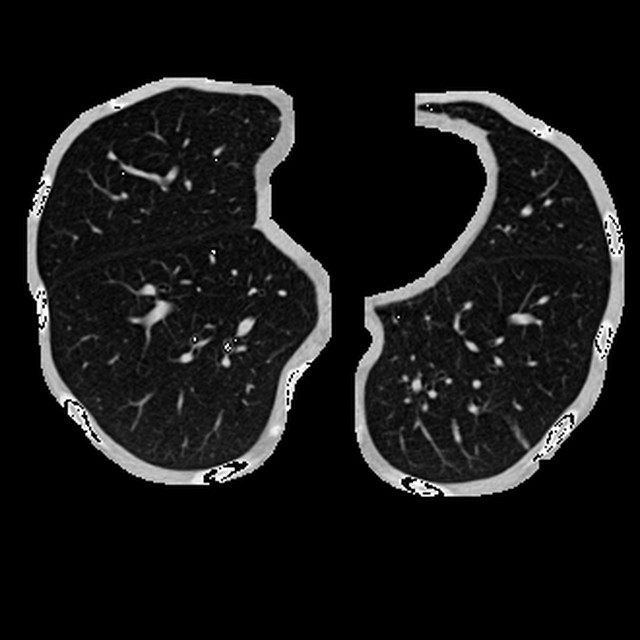PN: (107, 151, 114, 159)
